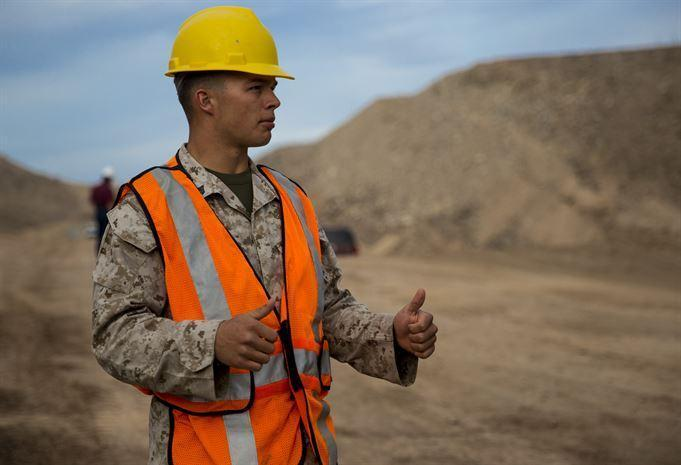vest: (112, 149, 349, 408)
